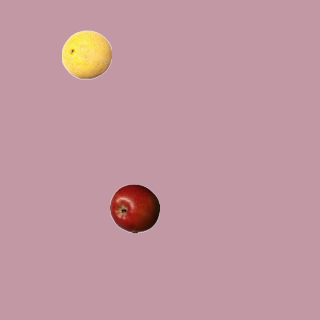Apple Braeburn: (109, 183, 159, 233)
Cantaloupe 1: (61, 29, 111, 79)
